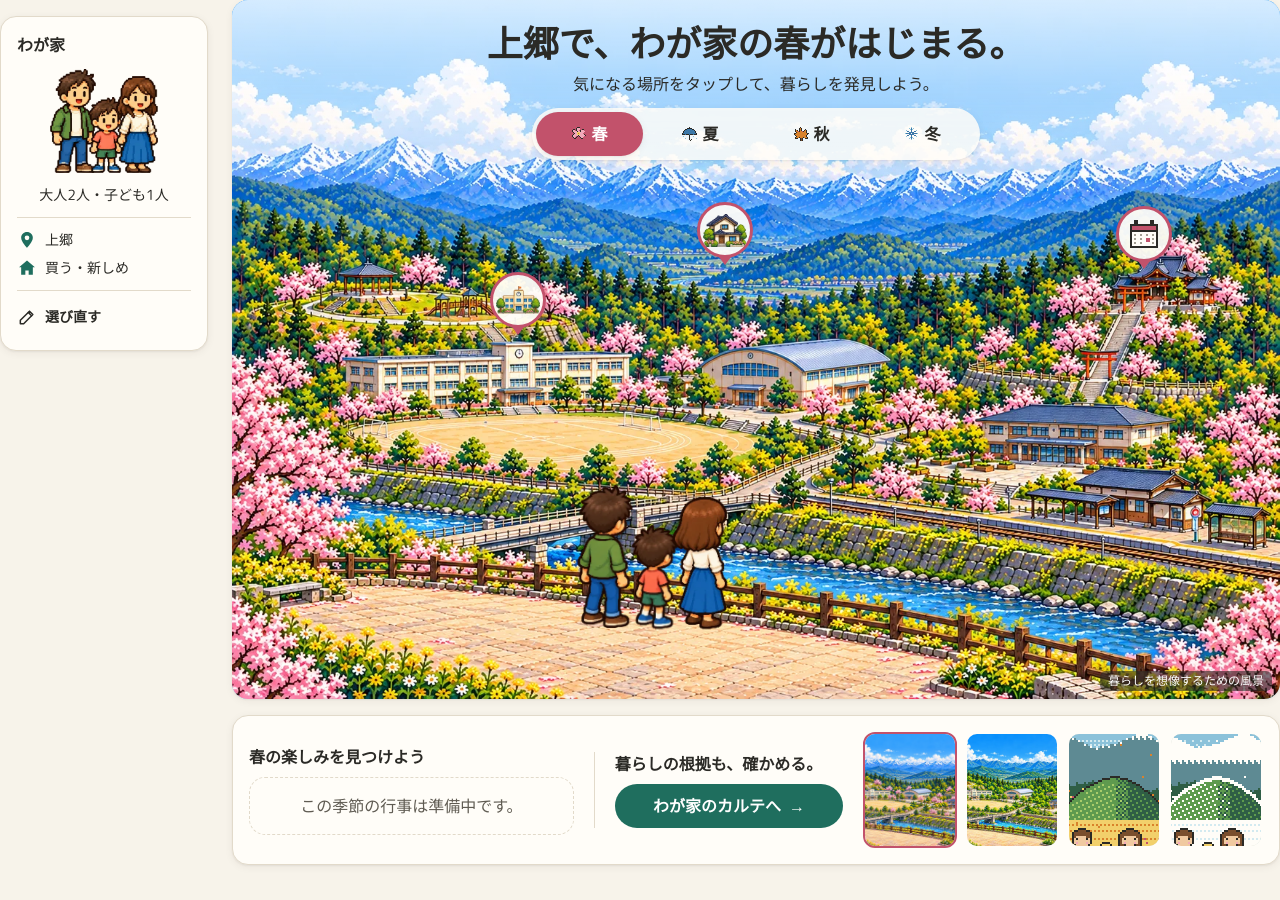
Test case: KurashiView：上郷・春の風景とピン（028） › 小学校の数が出せないときは、見出しから数を外して「データ未取得」と出す
This screenshot has width=1280, height=900.
Step 1. Click the button named "学校" → (518,304), box [490, 272, 546, 335]
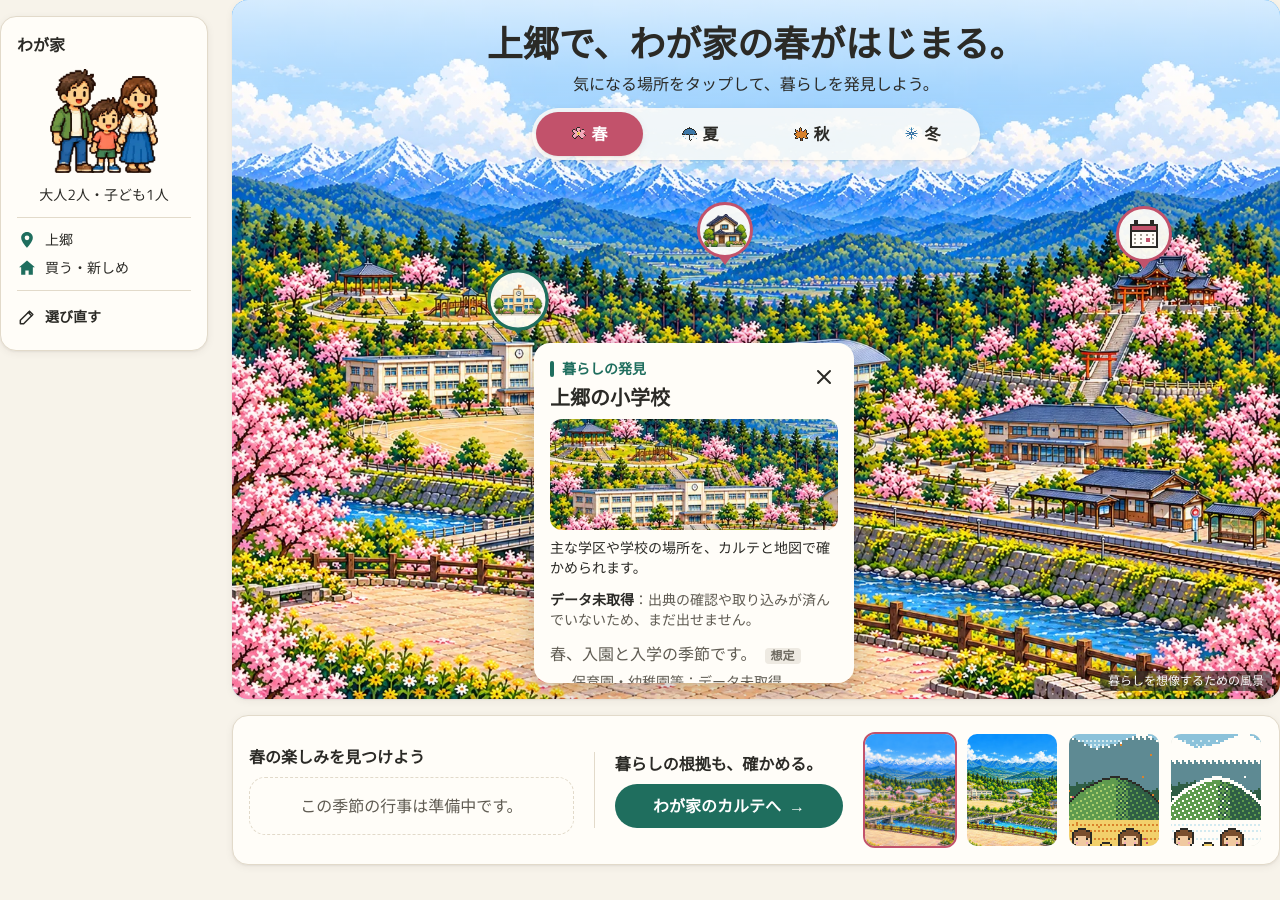
Result: the dialog "上郷の小学校" shows "データ未取得" at [550, 590, 634, 609]
